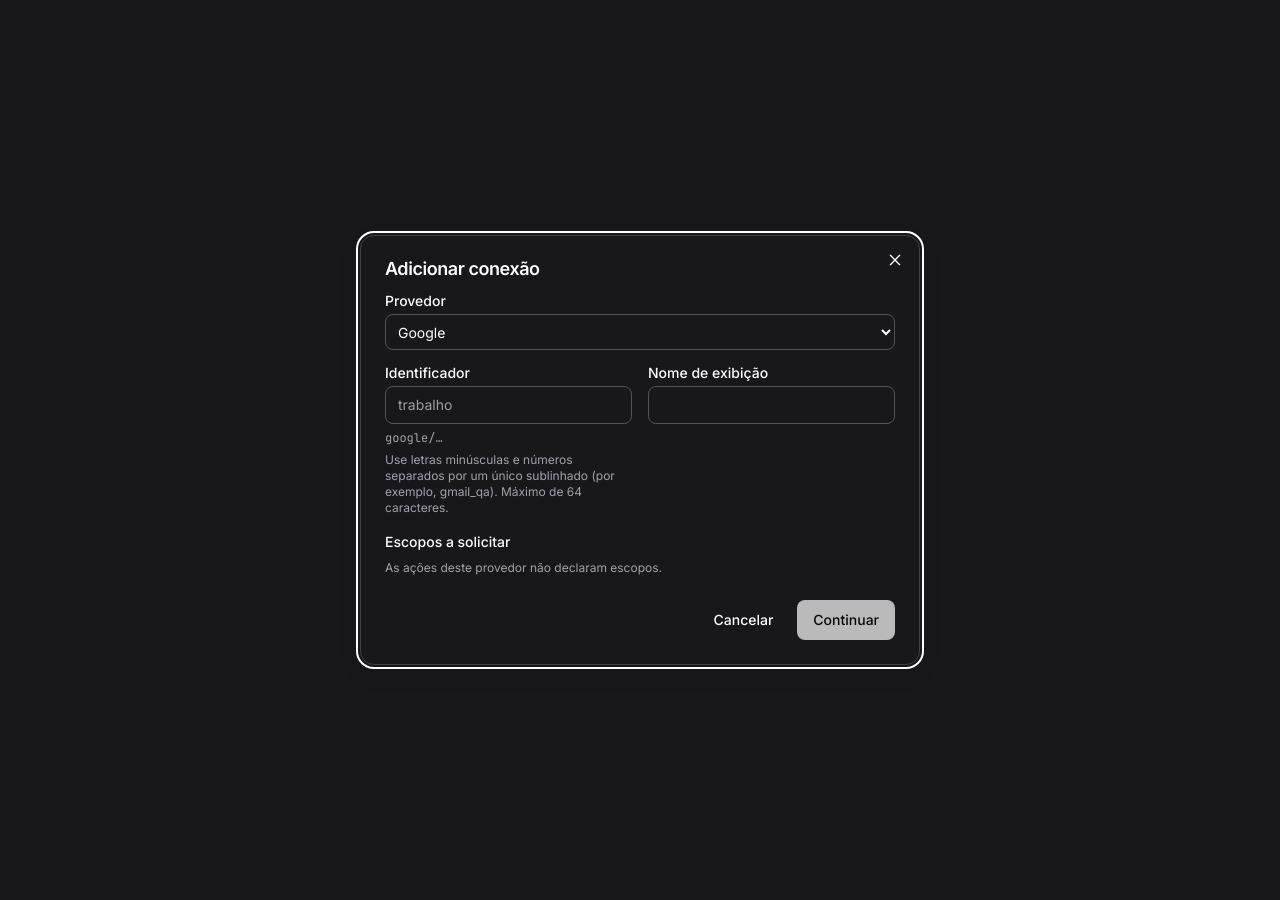
Test: AddConnectionDialog ownership › uses the Portuguese fallback for Network Error
The image size is (1280, 900).
Type "team_calendar" into the field with test id "connection-name" at (508, 405), box [385,386,632,424]
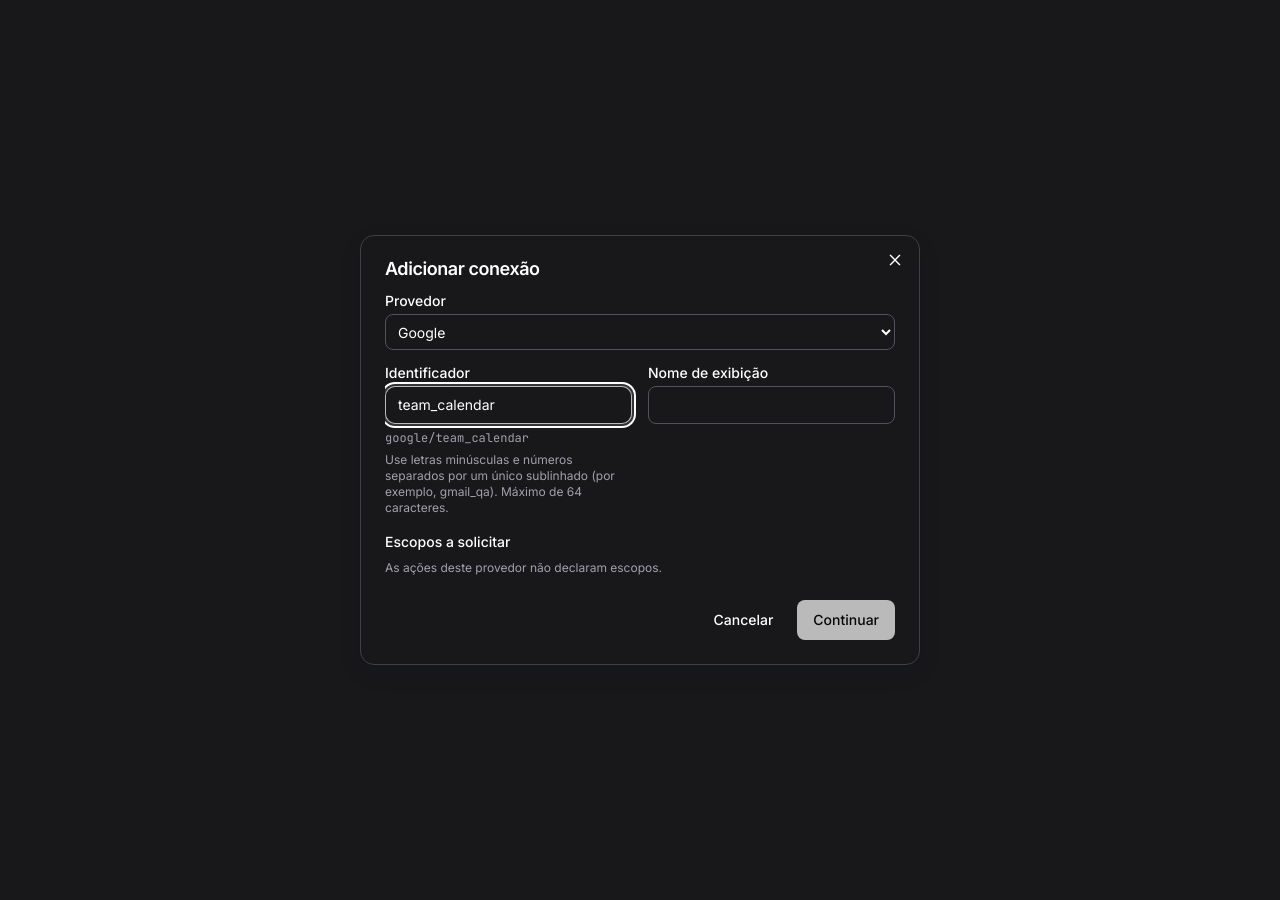
Type "Team calendar" into the field with test id "connection-display-name" at (772, 405), box [648,386,895,424]
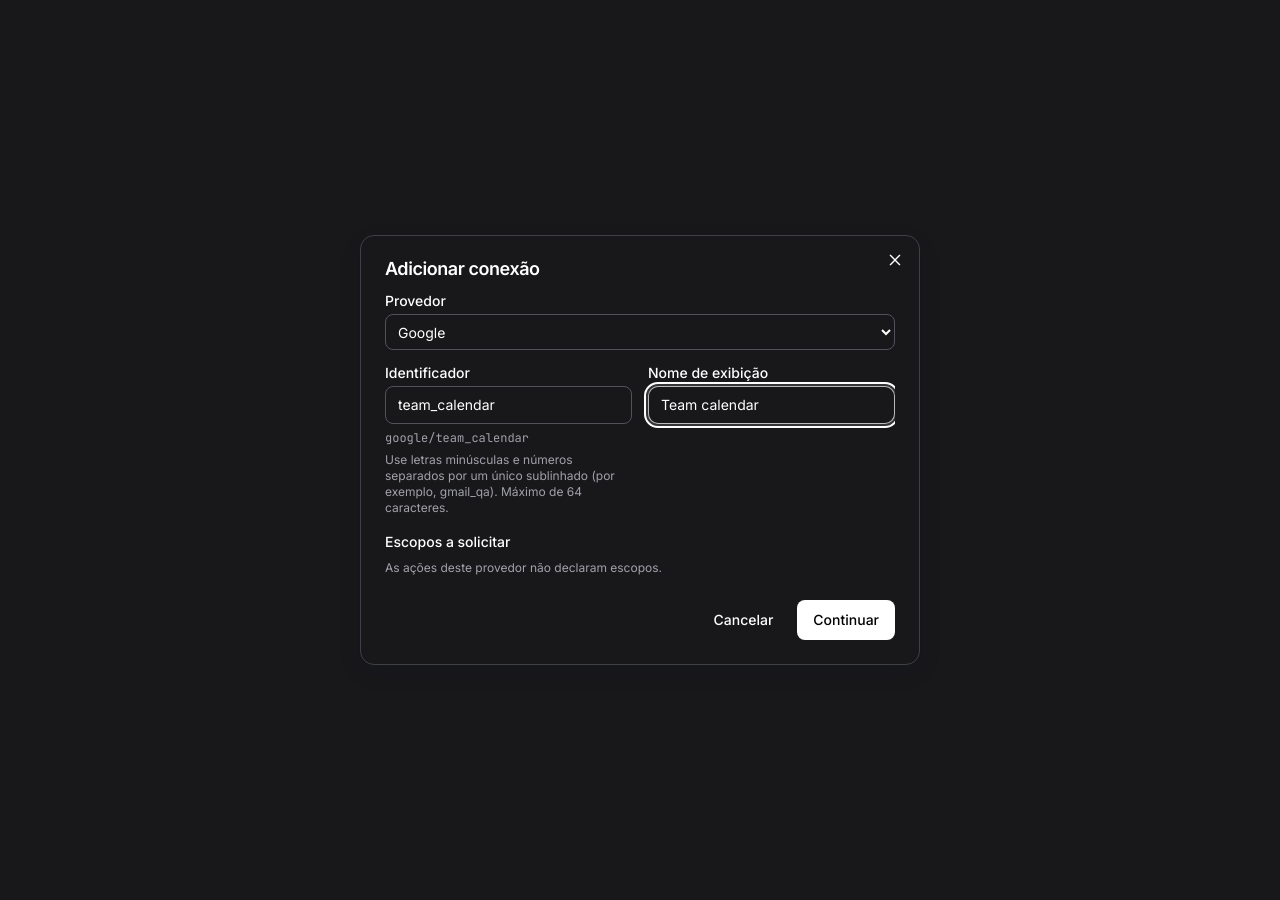
Click the button with test id "connection-continue" at (846, 620), box [797,600,895,640]
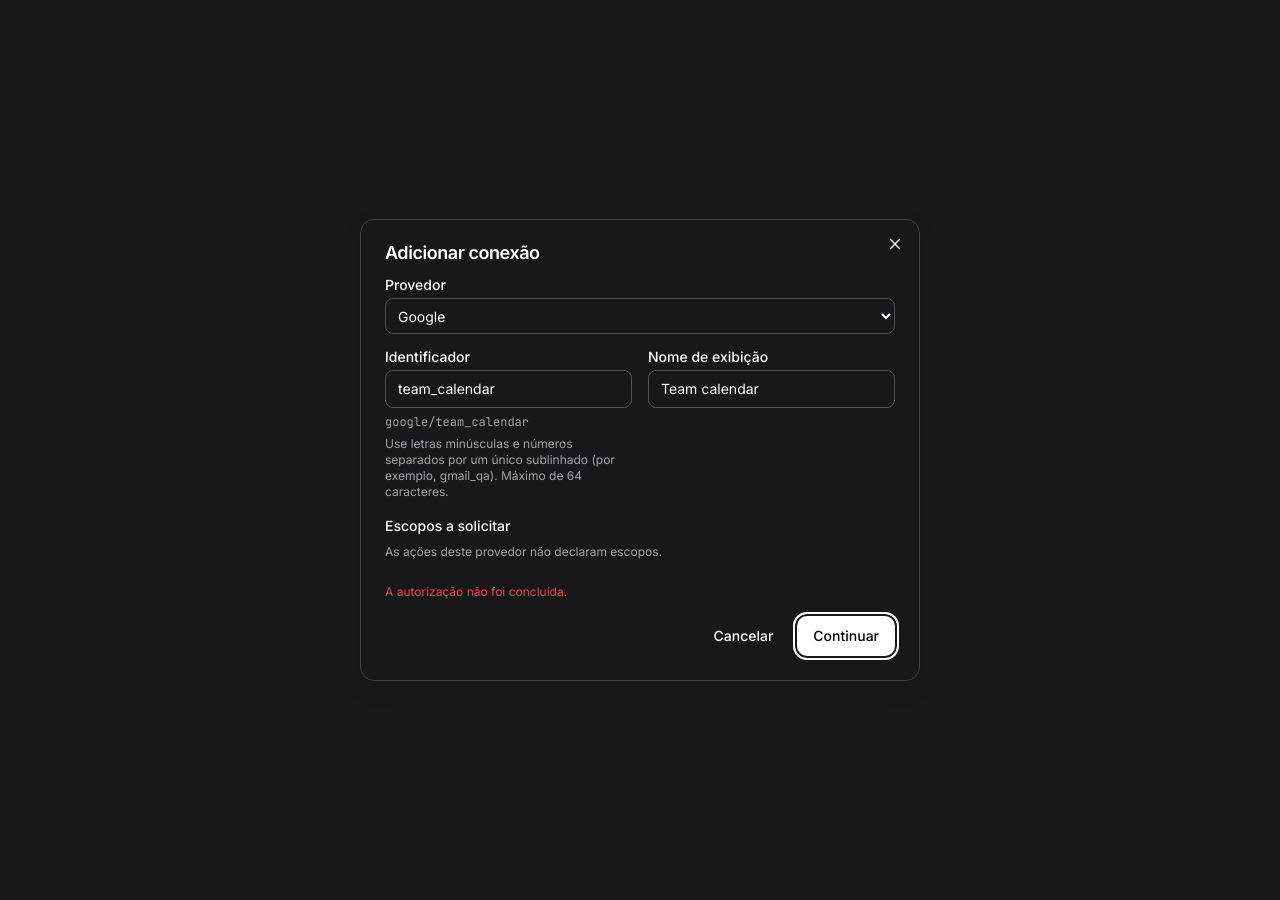
Now the message reads "A autorização não foi concluída.", box [385,584,567,599]
